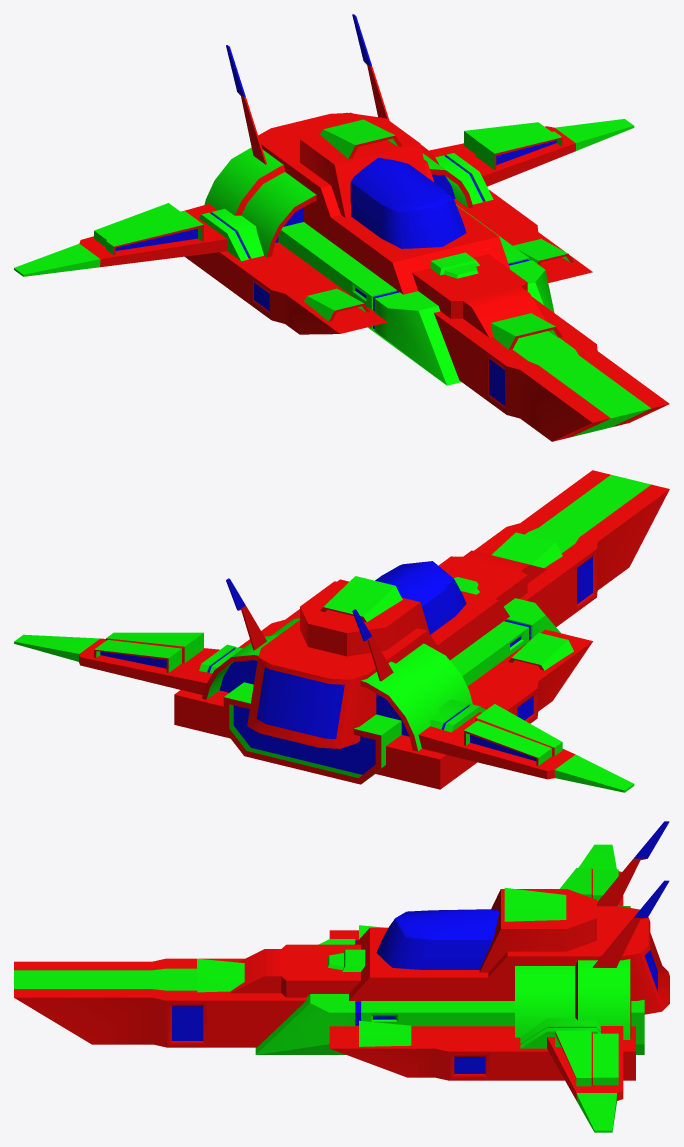
File: Starship_Rhyno.fbx
3 views of the same model, one above another, from view 1: azimuth 30°, elevation 25°; view 2: azimuth 150°, elevation 25°; view 3: azimuth 270°, elevation 25° (orthographic). The views are drawn at different scales.
Visible parts, largest first — view 1: TPV_Starship_Rhyno; view 2: TPV_Starship_Rhyno; view 3: TPV_Starship_Rhyno.
Part boxes in pixels (x1,y1,x2,y2): TPV_Starship_Rhyno: (14, 14, 669, 441); TPV_Starship_Rhyno: (14, 470, 669, 792); TPV_Starship_Rhyno: (14, 821, 669, 1132).
Size of the model in its own units: 10.5 by 3.02 by 10.18.
